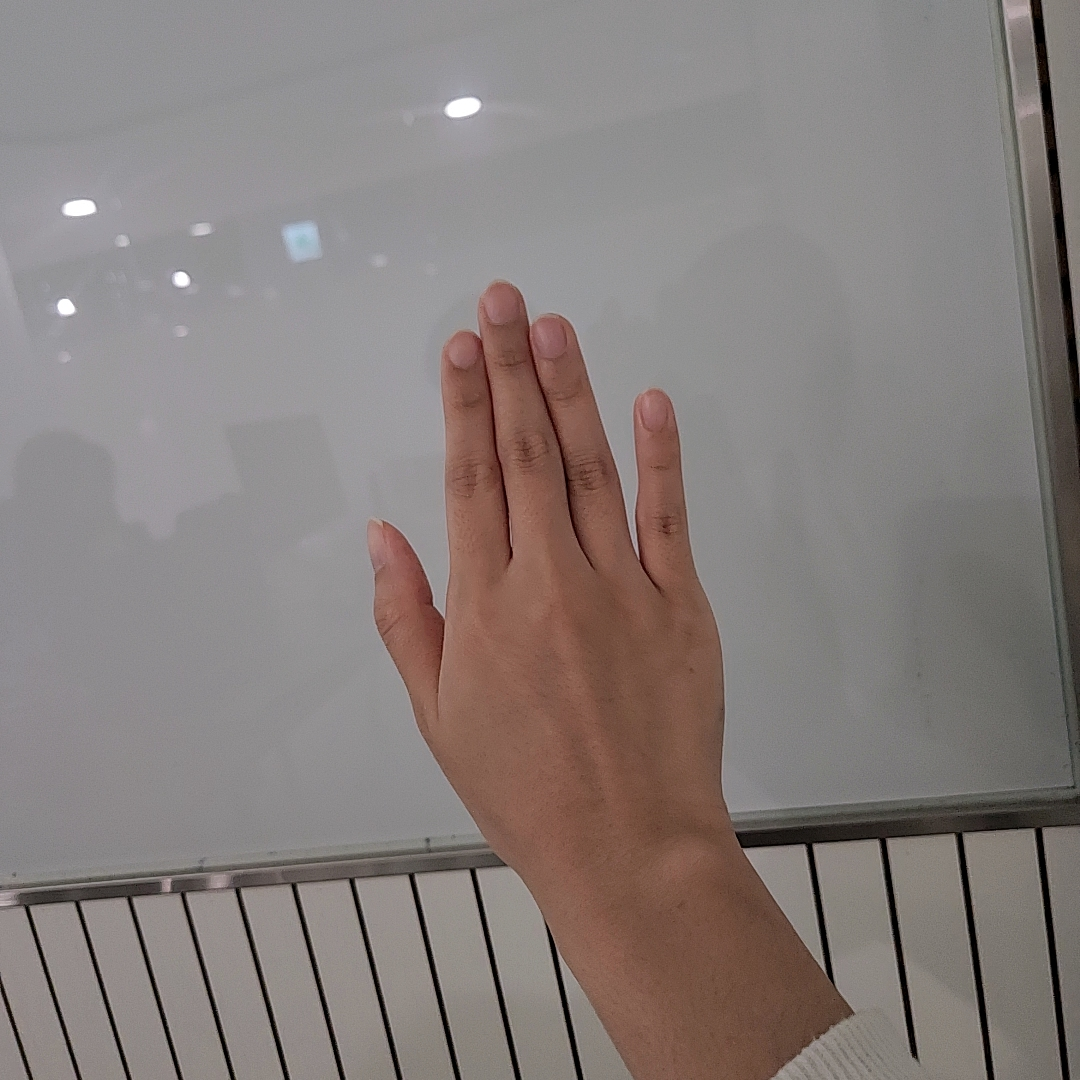me: (366, 278, 723, 858)
